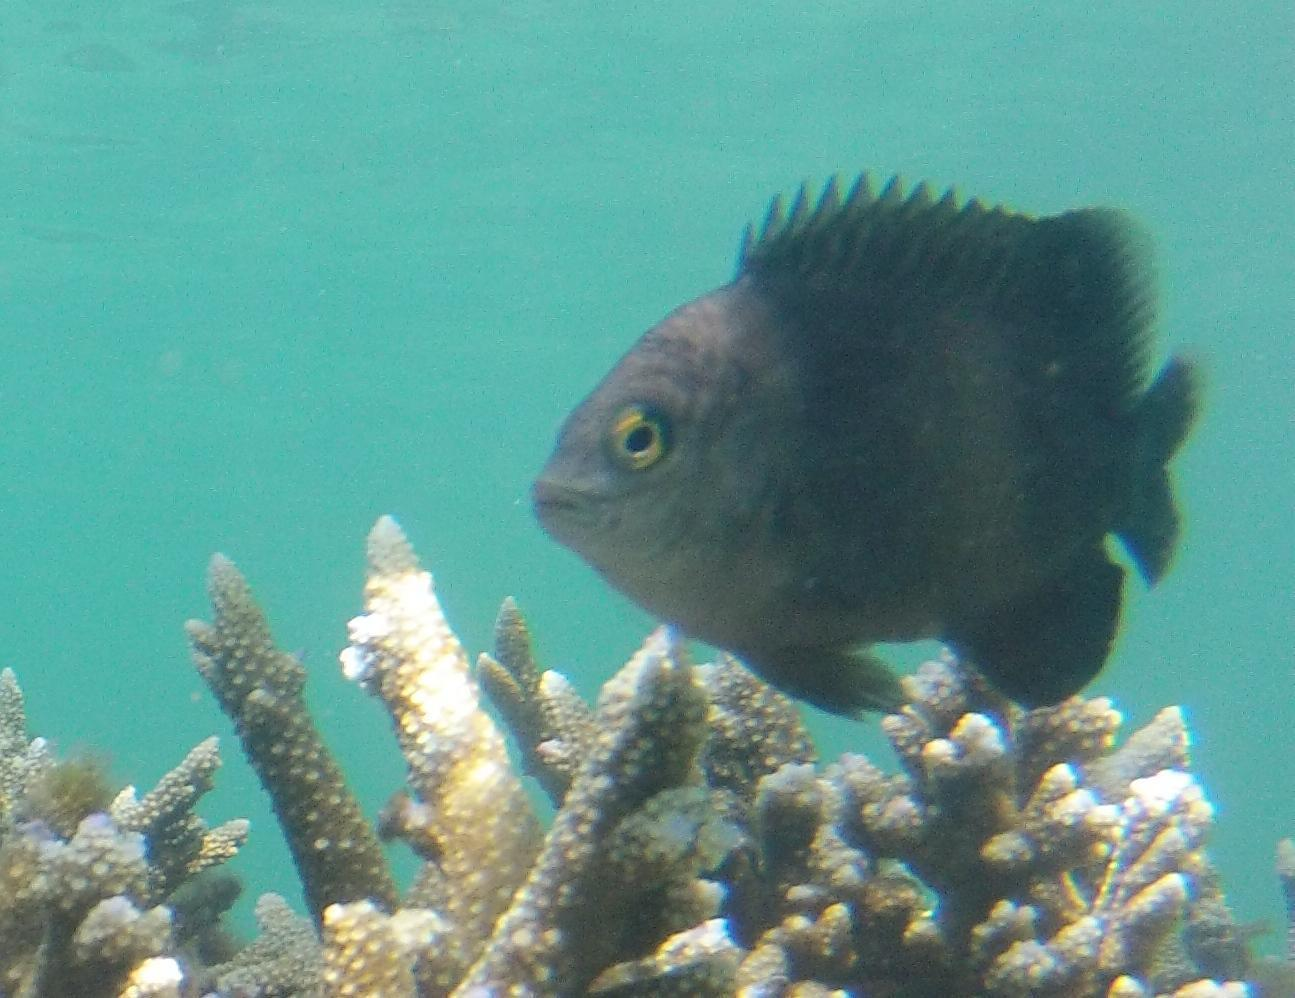Fish: (522, 169, 1229, 734)
